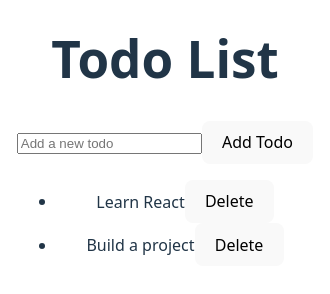
Scenario: TodoList Component › adds a new todo
Type "New Test Todo" into the field with placeholder "Add a new todo" at [109, 144], box left=17, top=133, right=202, bottom=154
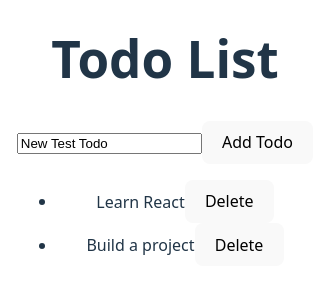
Click the button "Add Todo" at [258, 142], box left=202, top=121, right=313, bottom=164
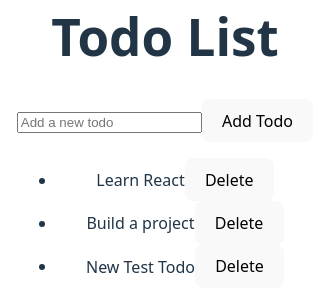
Expected: the text "New Test Todo" is shown, left=86, top=255, right=195, bottom=277
